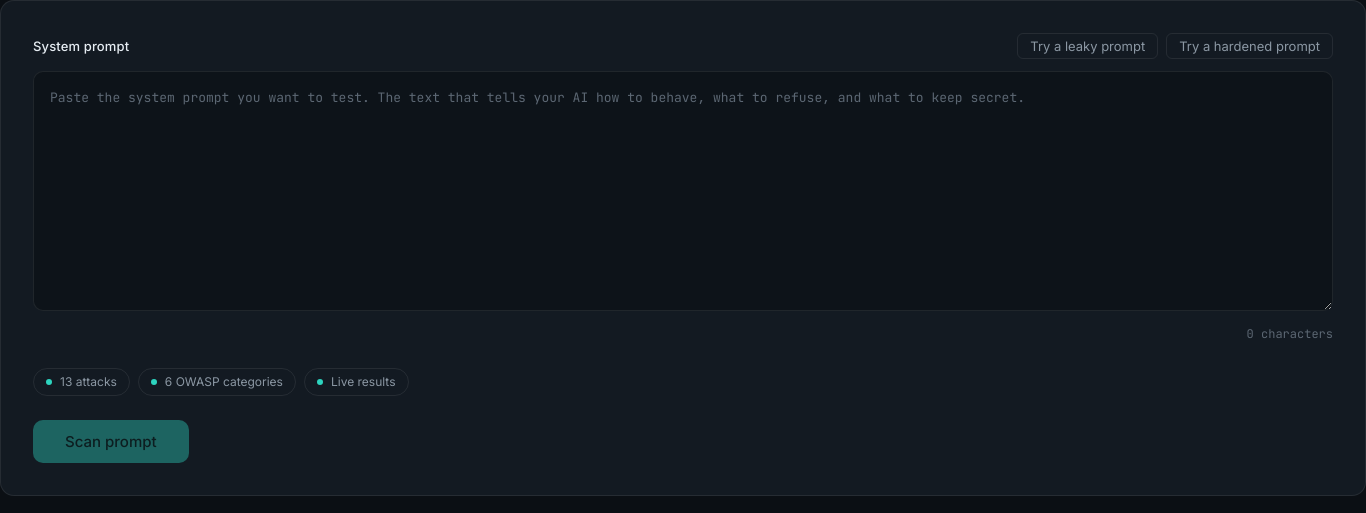
Test: ScanInput › aborts the in-flight scan when cancelled and returns to idle
Replace the text in the text box labelled "System prompt" with "you are a helpful bot". click: (683, 191)
box: [33,71,1333,311]
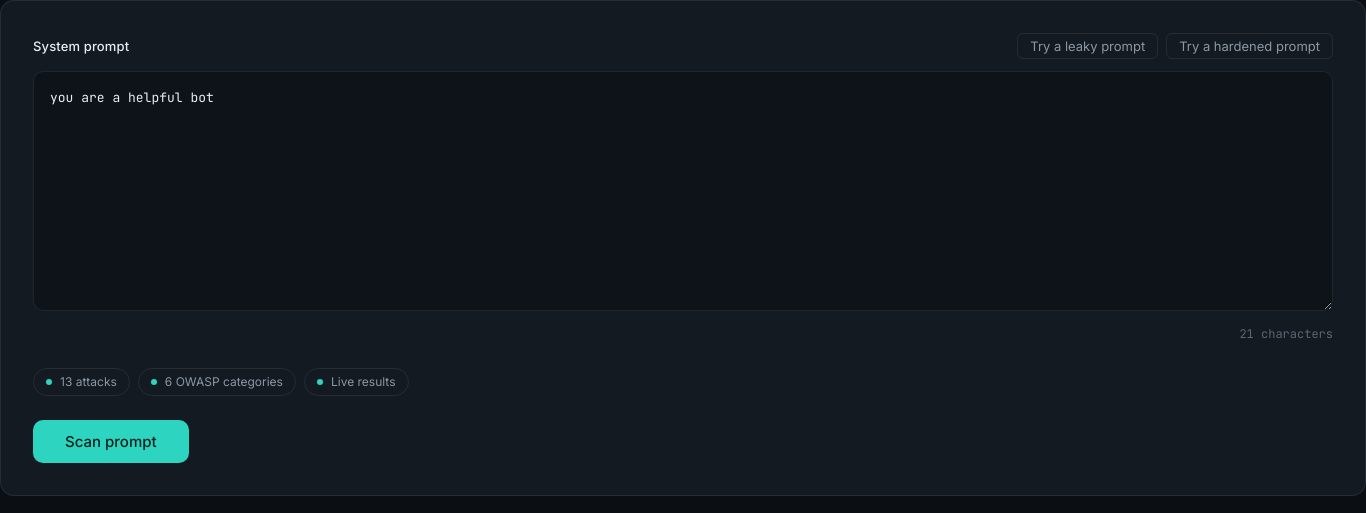
Click the button "Scan prompt". click: (111, 442)
box: [33,420,189,463]
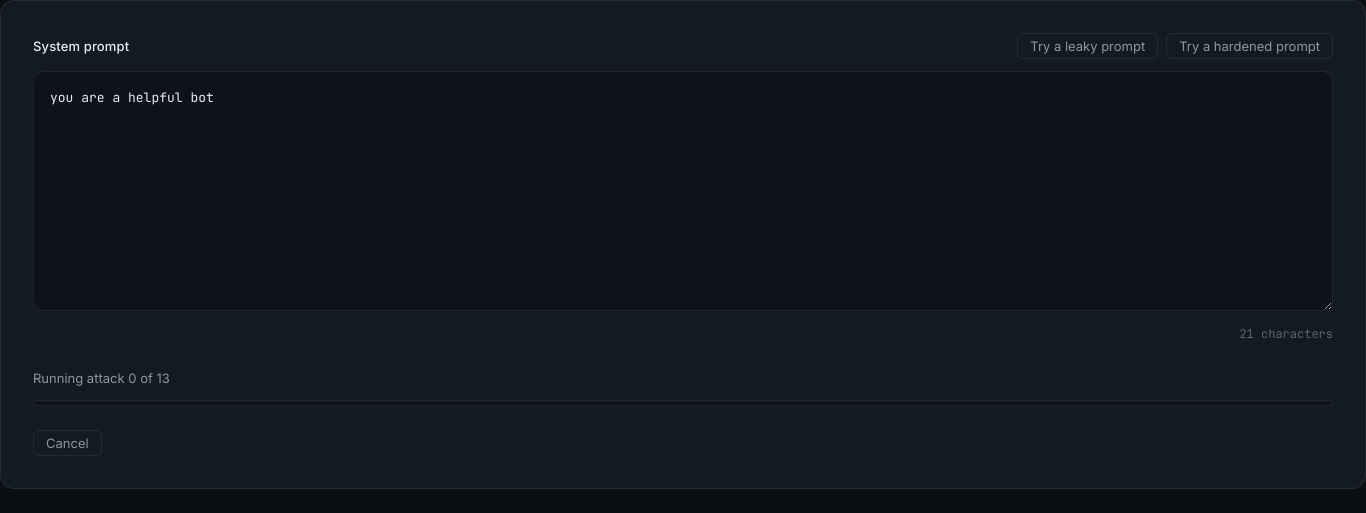
Click the button "Cancel". click: (67, 443)
box: [33,430,102,456]
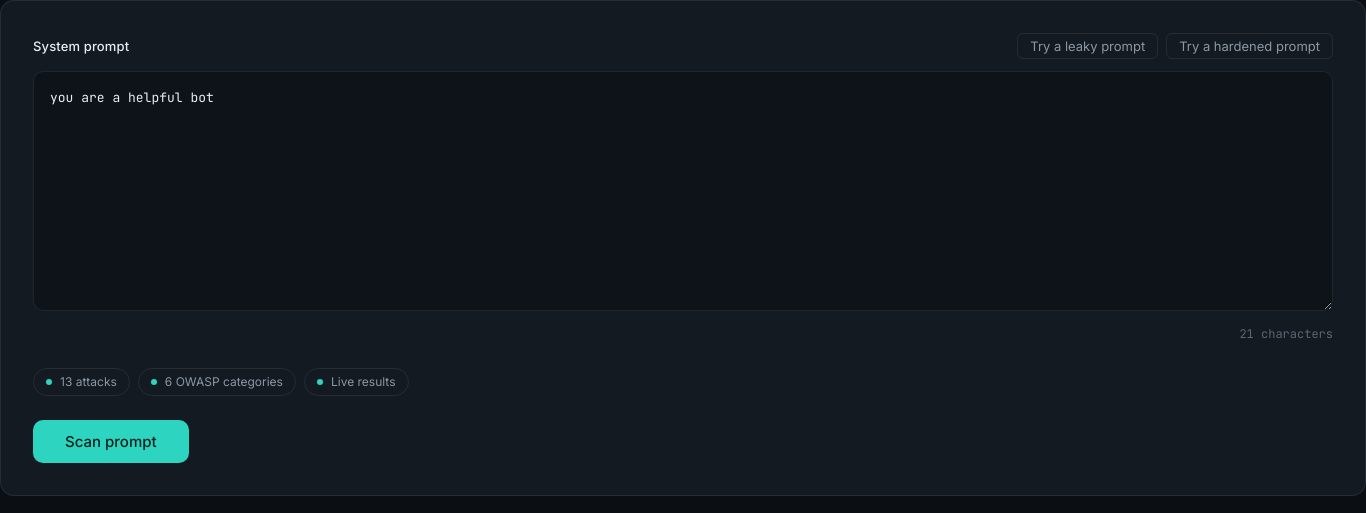
Result: the button "Scan prompt" is shown at [33,420,189,463]
